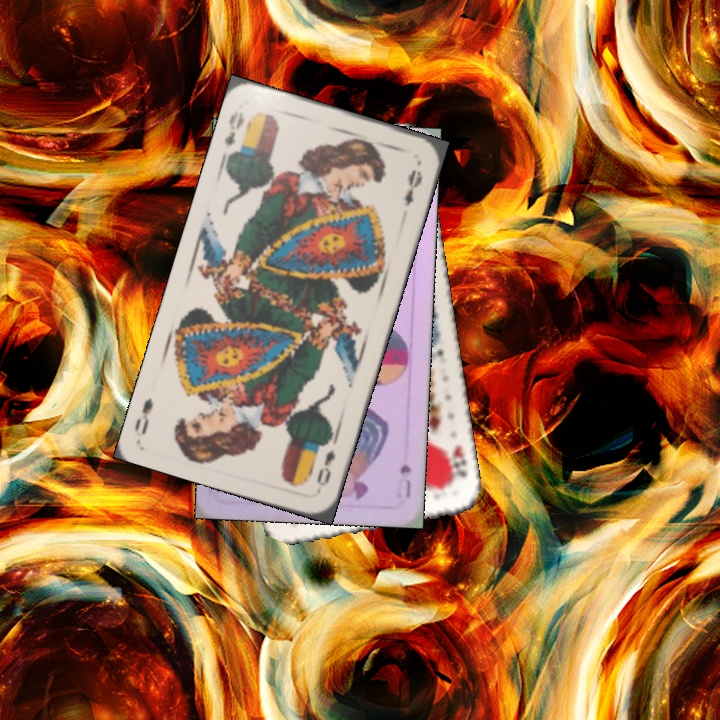EO: (218, 107, 253, 162), (312, 446, 338, 489)
HK: (440, 440, 471, 490)
SU: (393, 460, 414, 501)
